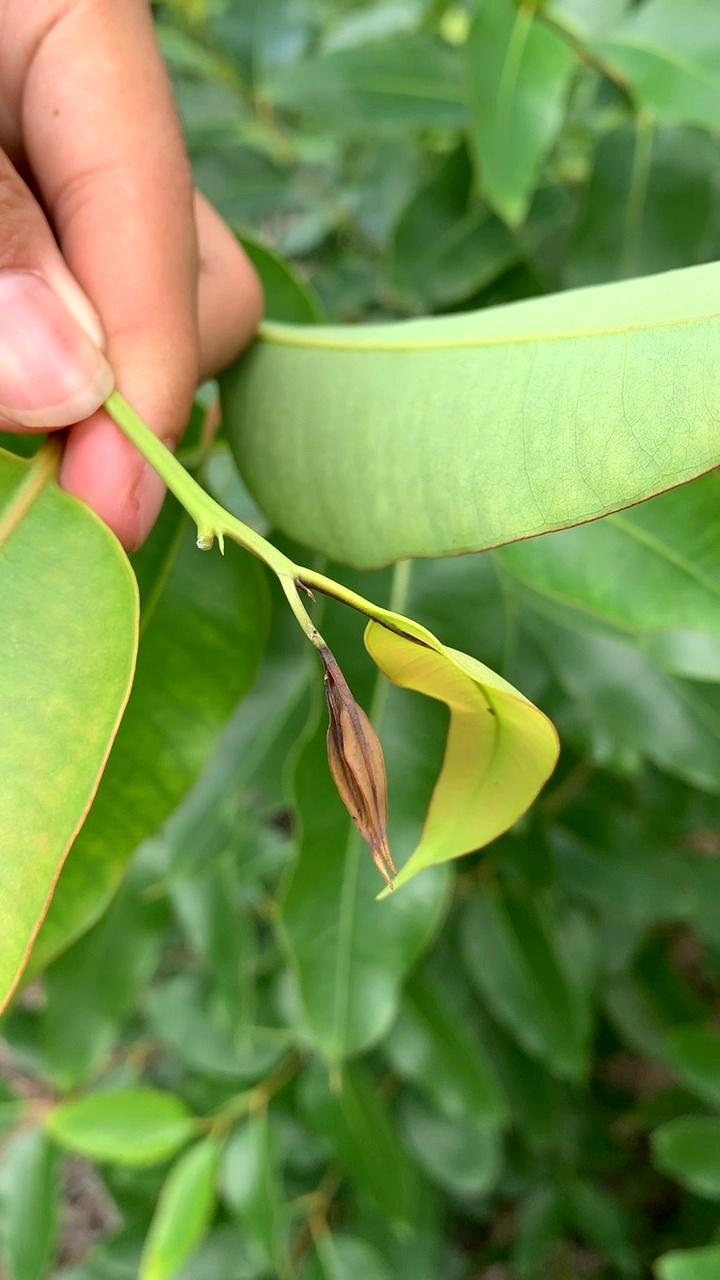Helopeltis-Withered Sprout: (278, 638, 435, 889)
